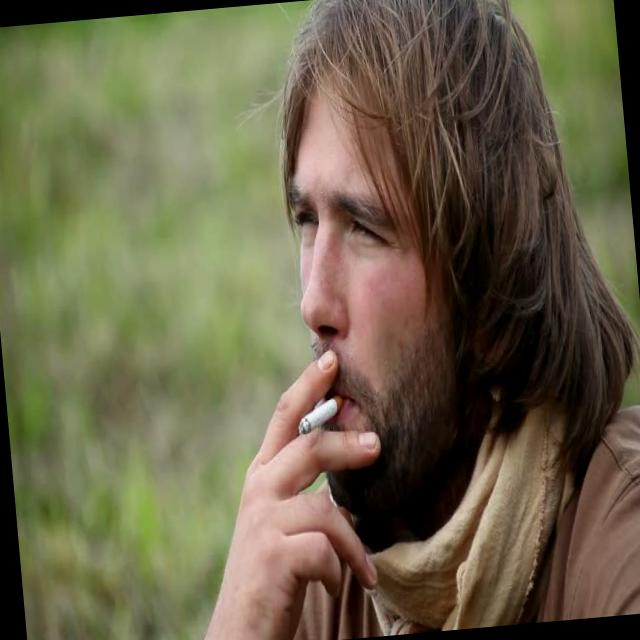cigarette: (268, 352, 368, 466)
